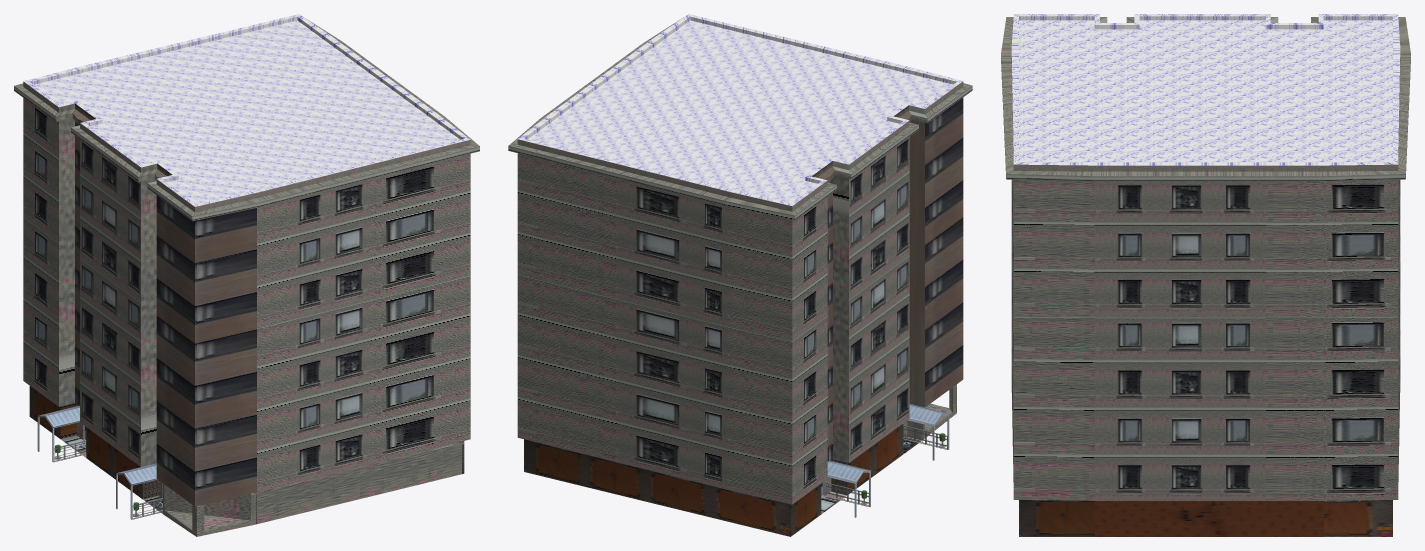
The model's file is kp_building_doomertalo_A.glb.
3 renders of one model, left to right at view 1: azimuth 30°, elevation 25°; view 2: azimuth 150°, elevation 25°; view 3: azimuth 270°, elevation 25°, orthographic. The views are drawn at different scales.
Visible parts, largest first — view 1: doomertalo-col, doomertalo-katos-col.002, doomertalo-katos-col; view 2: doomertalo-col, doomertalo-katos-col.002, doomertalo-katos-col; view 3: doomertalo-col.
Part boxes in pixels (x1=…): doomertalo-col: x1=14, y1=14, x2=479, y2=536; doomertalo-katos-col.002: x1=37, y1=405, x2=86, y2=462; doomertalo-katos-col: x1=116, y1=463, x2=162, y2=519; doomertalo-col: x1=508, y1=14, x2=972, y2=536; doomertalo-katos-col.002: x1=825, y1=460, x2=871, y2=517; doomertalo-katos-col: x1=903, y1=404, x2=949, y2=460; doomertalo-col: x1=1001, y1=14, x2=1410, y2=536.
Bounding box in the file's own units: 22.07 × 22.79 × 22.56.
Materials: 10 (8 with a texture image).
